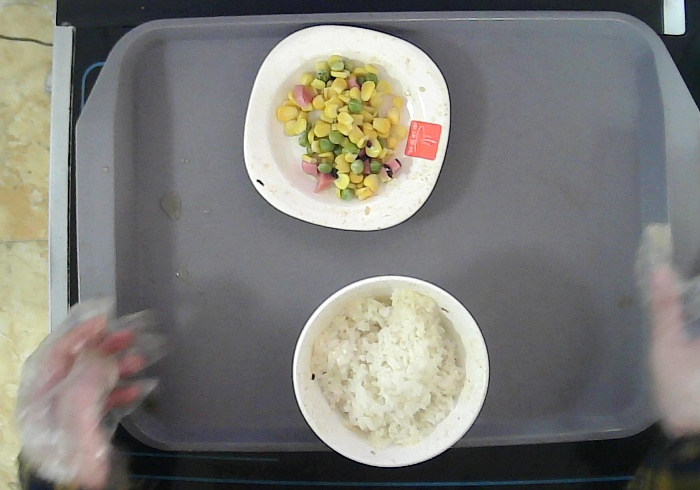SHKJ-Bai_Se_Si_Fang_Cai_Die: (239, 16, 453, 234)
SHKJ-Fan_Wan: (288, 272, 497, 468)
